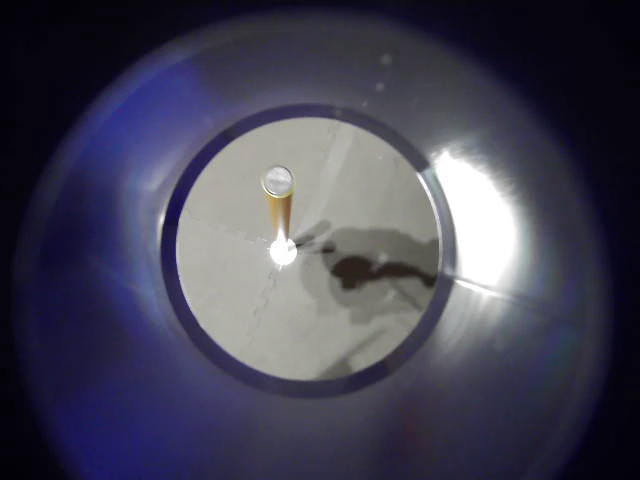tip: (250, 161, 307, 222)
